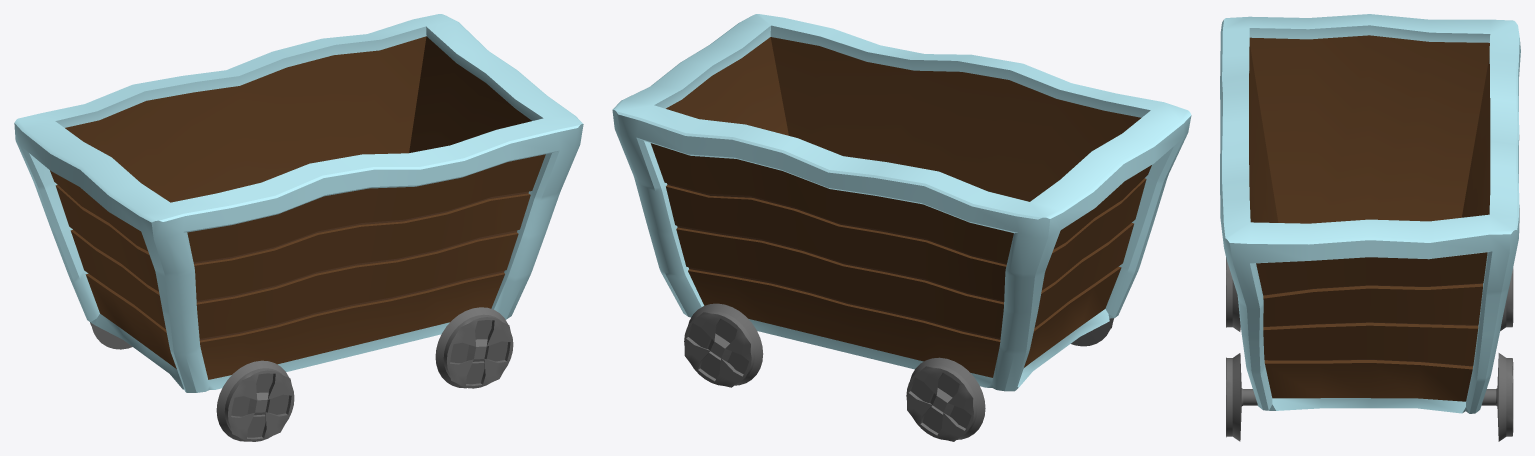
Rendered from minecart.glb.
3 views of the same model, side by side, from view 1: azimuth 30°, elevation 25°; view 2: azimuth 150°, elevation 25°; view 3: azimuth 270°, elevation 25° (orthographic). The views are drawn at different scales.
Parts seen in each view (by area): view 1: Cart, Axel.001, Axel; view 2: Cart, Axel.001, Axel; view 3: Cart, Axel, Axel.001.
Part boxes in pixels (box(x1,y1,x2,y2)): Cart: box(14, 14, 583, 392); Axel.001: box(90, 322, 294, 441); Axel: box(435, 307, 513, 388); Cart: box(612, 14, 1191, 391); Axel.001: box(906, 318, 1114, 441); Axel: box(684, 303, 763, 387); Cart: box(1220, 14, 1520, 413); Axel: box(1226, 353, 1513, 441); Axel.001: box(1226, 257, 1513, 331).
Size of what is drawn, in the model's own units: 3.3 by 1.87 by 1.91.
1 material, 1 textured.
